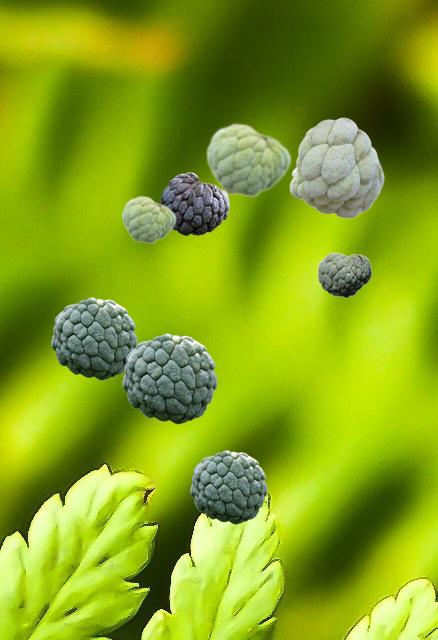atis: (289, 117, 383, 217), (122, 333, 216, 423), (51, 297, 136, 379), (205, 122, 290, 197), (190, 450, 266, 523), (160, 172, 228, 234), (121, 195, 175, 243), (317, 252, 371, 297)
